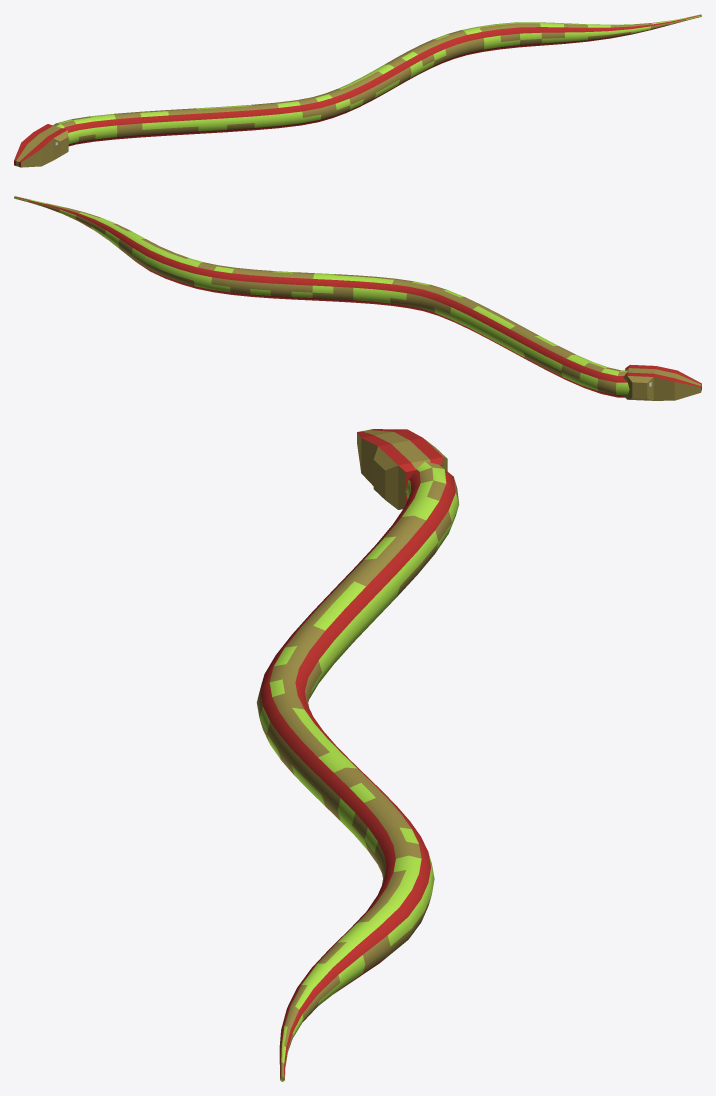
Rendered from serpent 1.fbx.
The picture shows the model from 3 angles, top to bottom: view 1: azimuth 30°, elevation 25°; view 2: azimuth 150°, elevation 25°; view 3: azimuth 270°, elevation 25°; orthographic projection. The views are drawn at different scales.
Visible parts, largest first — view 1: serpent; view 2: serpent; view 3: serpent.
Part boxes in pixels (<box>): serpent: <box>14,14,701,167</box>; serpent: <box>14,196,701,400</box>; serpent: <box>256,429,459,1081</box>.
Bounding box in the file's own units: 1191 × 40.59 × 157.
